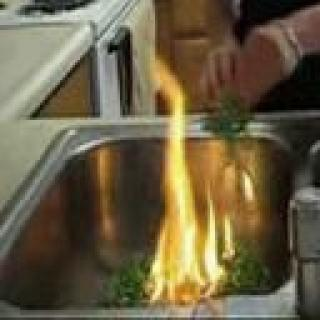fire: (145, 90, 228, 303)
